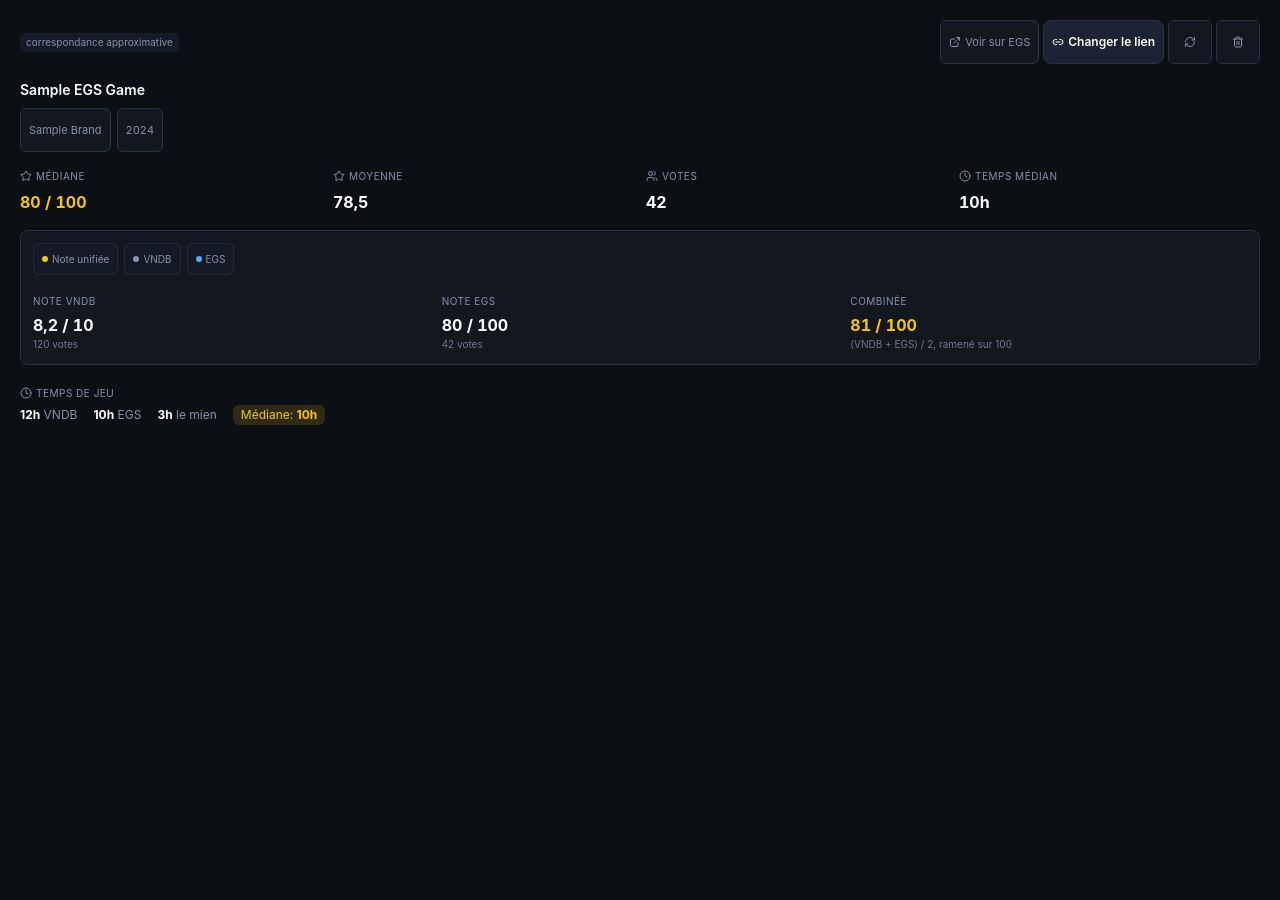
Test: EgsPanel › renders a matched EGS game and refreshes the linked snapshot
Expected: the text "Sample EGS Game" is shown, [20, 81, 145, 98]
Expected: the text "correspondance approximative" is shown, [20, 32, 179, 52]
Click the button named "Rafraîchir".
click(1190, 42)  # box [1168, 20, 1212, 64]
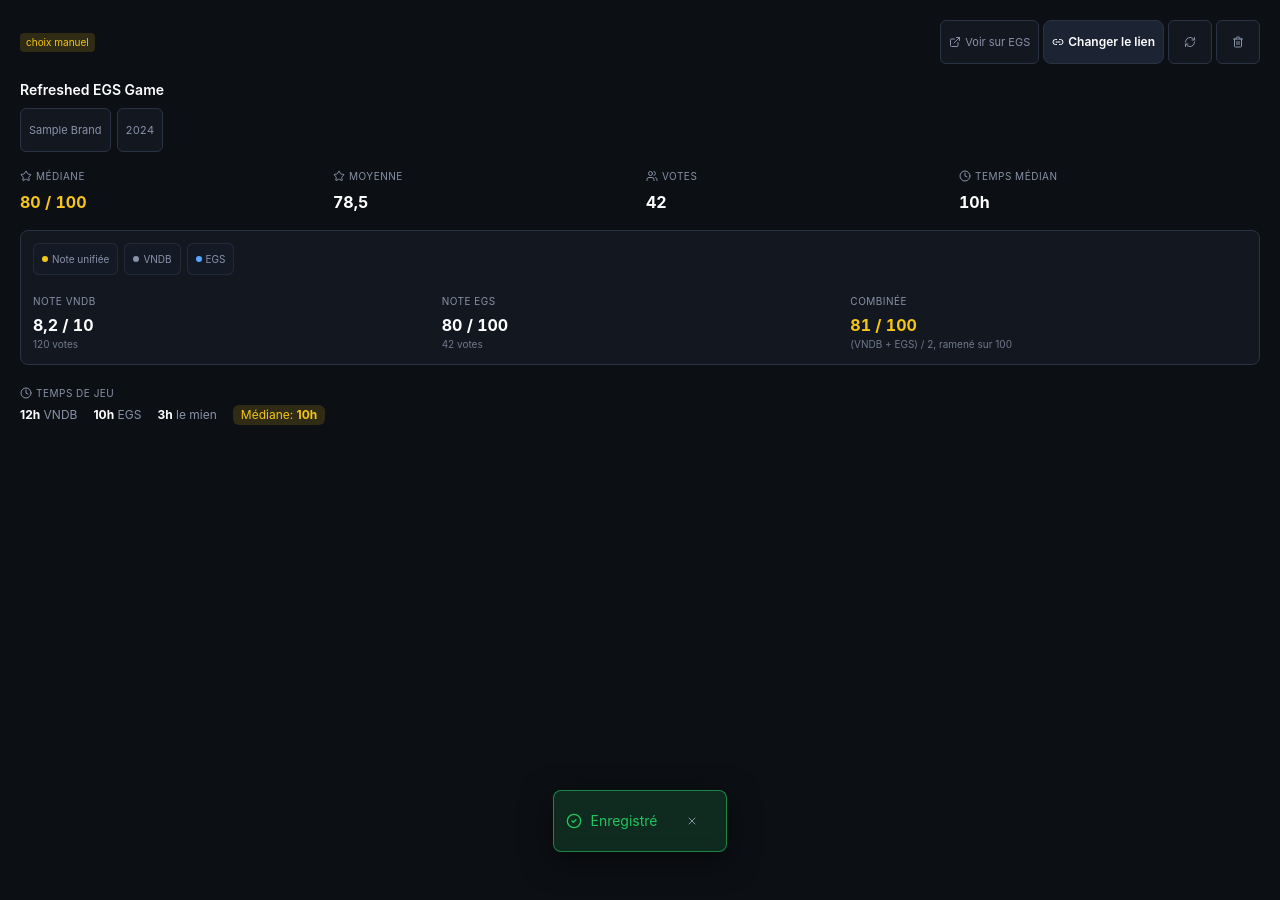
Expected: the text "Refreshed EGS Game" is shown, [20, 81, 164, 98]
